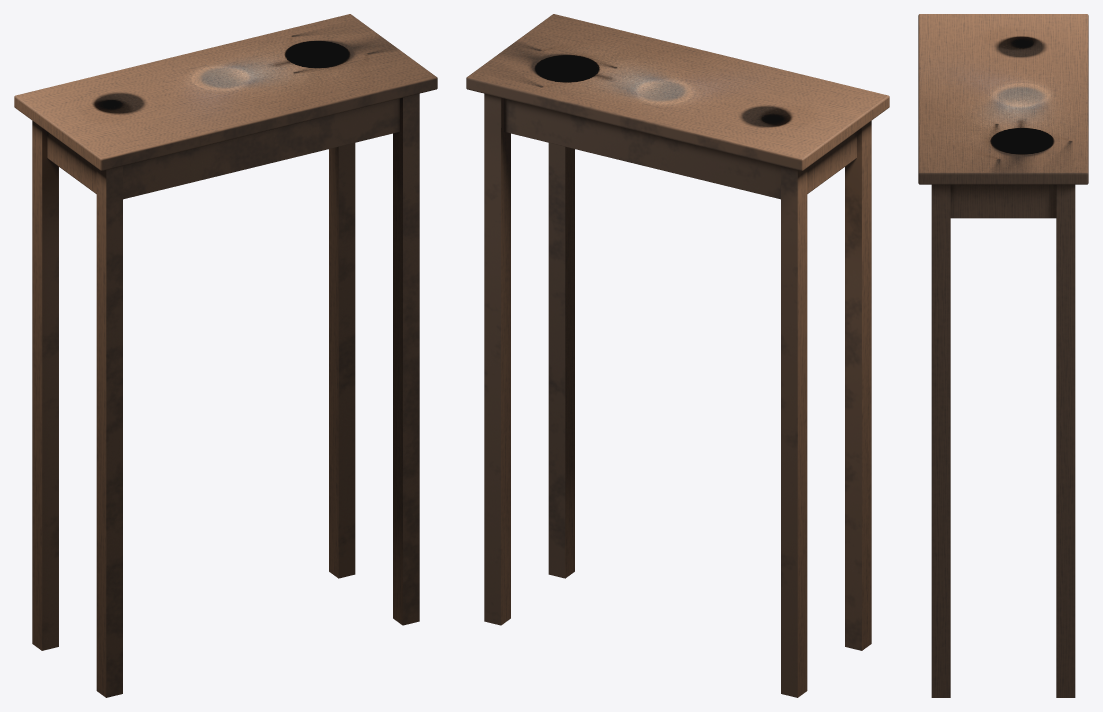
Rendered from 412_hook.glb.
3 views of the same model, side by side, from view 1: azimuth 30°, elevation 25°; view 2: azimuth 150°, elevation 25°; view 3: azimuth 270°, elevation 25° (orthographic). The views are drawn at different scales.
Visible parts, largest first — view 1: Table; view 2: Table; view 3: Table.
Boxes of the visible parts, x1,y1,x2,y2 form: Table: (14,14,437,697); Table: (466,14,889,697); Table: (918,14,1088,697).
Size of what is drawn, in the model's own units: 2 by 3.1 by 0.9.
1 material, 1 textured.
